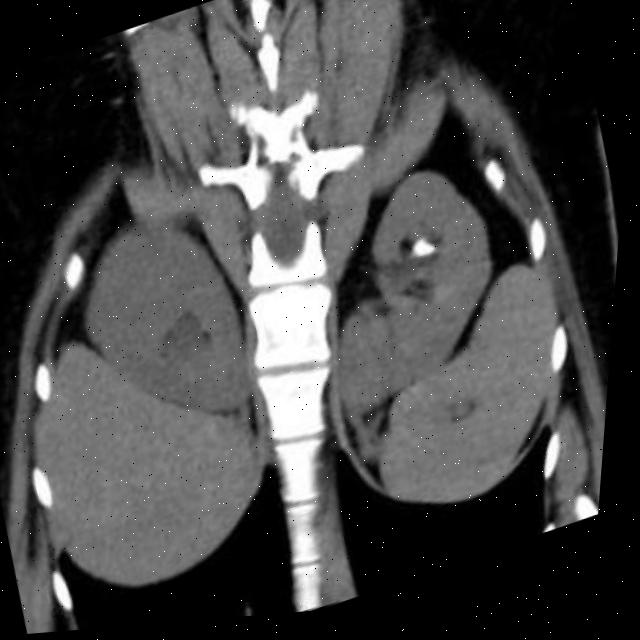Tas_Var: (414, 237, 446, 269)
